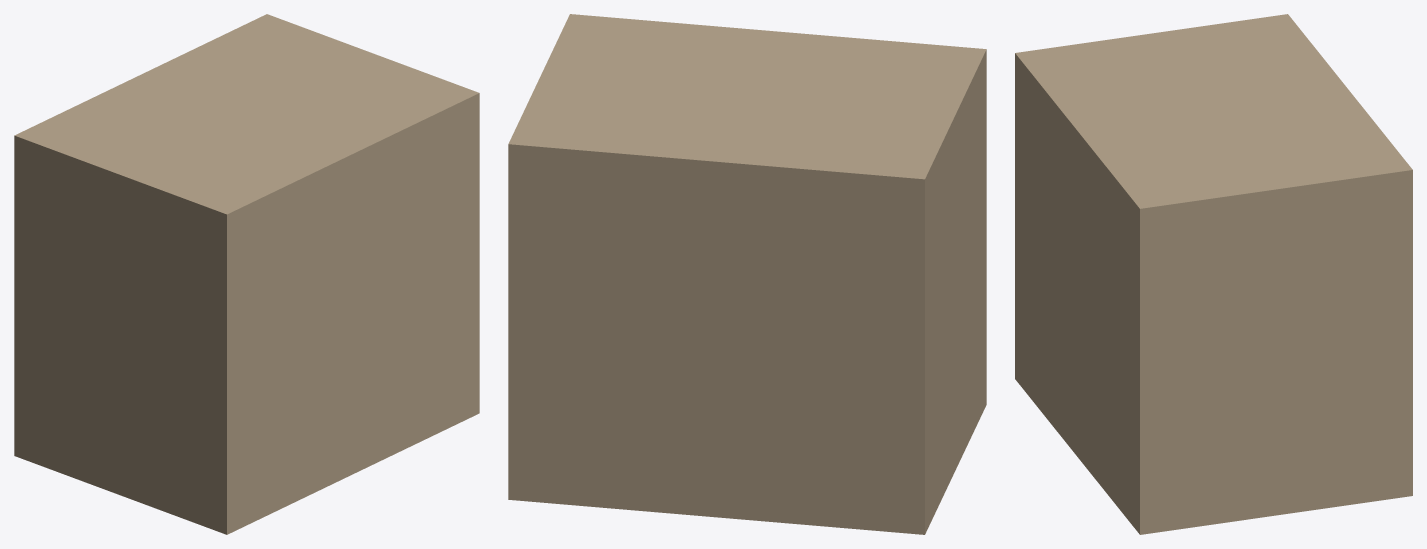
Rendered from bld_108162365.dae.
3 views of the same model, side by side, from view 1: azimuth 30°, elevation 25°; view 2: azimuth 150°, elevation 25°; view 3: azimuth 270°, elevation 25° (orthographic). The views are drawn at different scales.
Visible parts, largest first — view 1: bld_108162365; view 2: bld_108162365; view 3: bld_108162365.
Boxes of the visible parts, x1,y1,x2,y2 form: bld_108162365: (14, 14, 479, 534); bld_108162365: (508, 14, 986, 534); bld_108162365: (1015, 14, 1412, 534).
Bounding box in the file's own units: 10.26 × 8.85 × 8.
